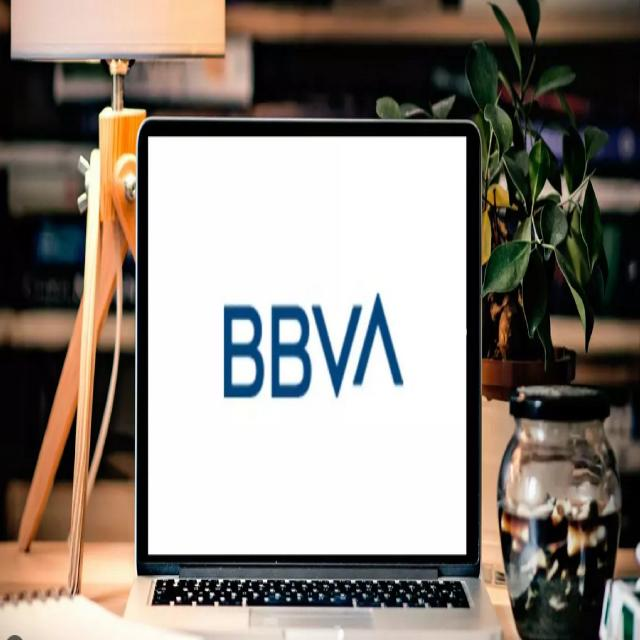BBVA: (223, 293, 404, 399)
